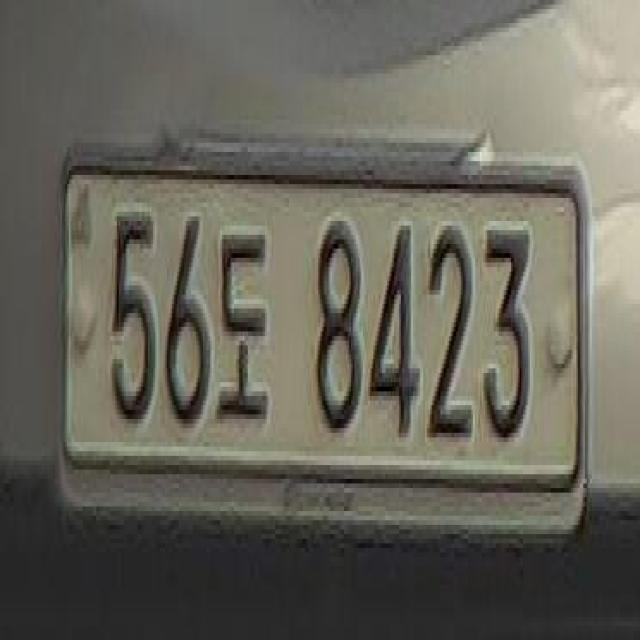illegal_plate: (65, 150, 593, 562)
